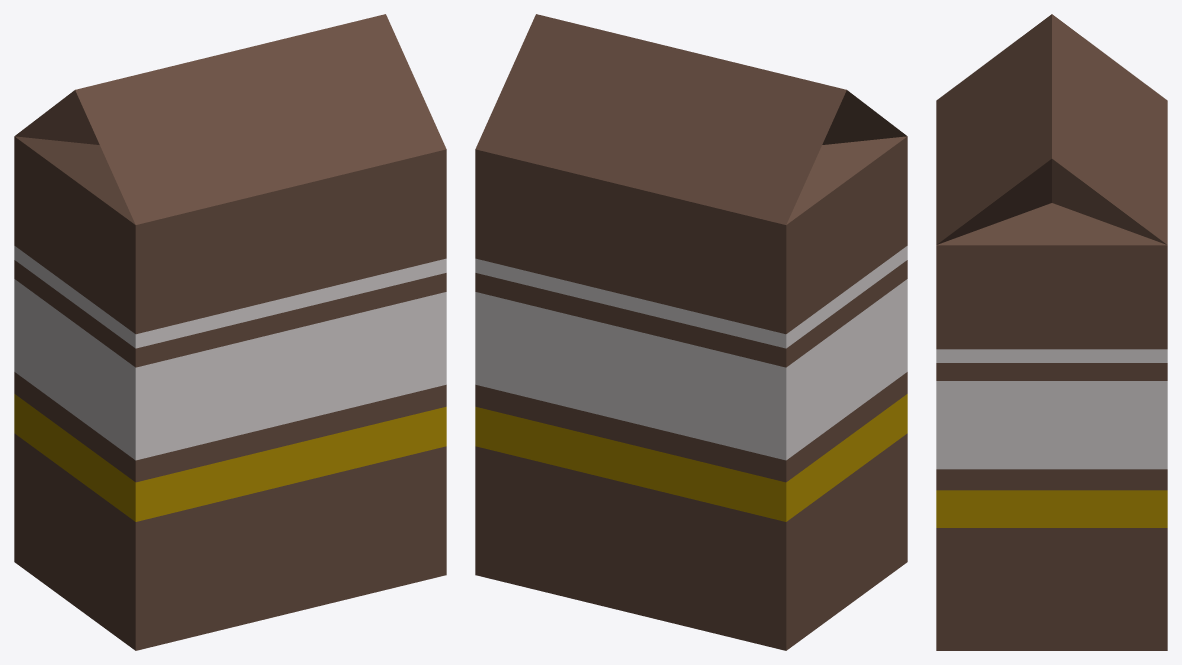
The model's file is Coffee.fbx.
The picture shows the model from 3 angles, left to right: view 1: azimuth 30°, elevation 25°; view 2: azimuth 150°, elevation 25°; view 3: azimuth 270°, elevation 25°; orthographic projection. The views are drawn at different scales.
Visible parts, largest first — view 1: Group1; view 2: Group1; view 3: Group1.
Boxes of the visible parts, x1,y1,x2,y2 form: Group1: (14, 14, 446, 650); Group1: (475, 14, 907, 650); Group1: (936, 14, 1167, 650).
Bounding box in the file's own units: 4.25 × 6.75 × 2.88.
